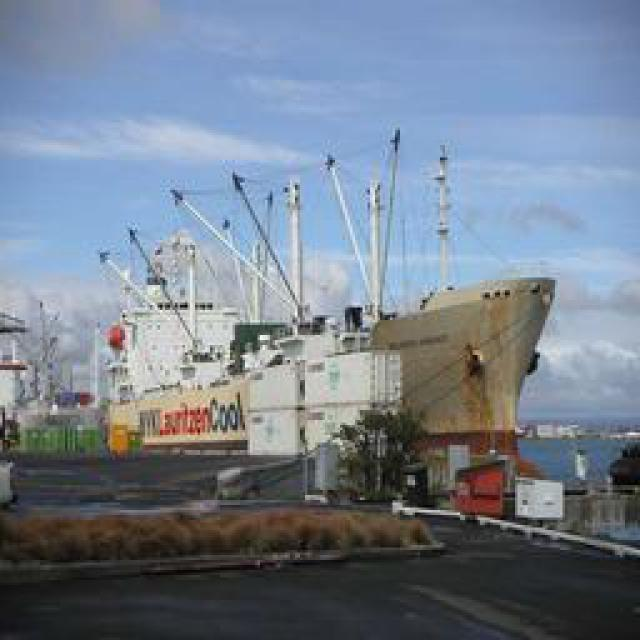Ship: (27, 159, 555, 519)
